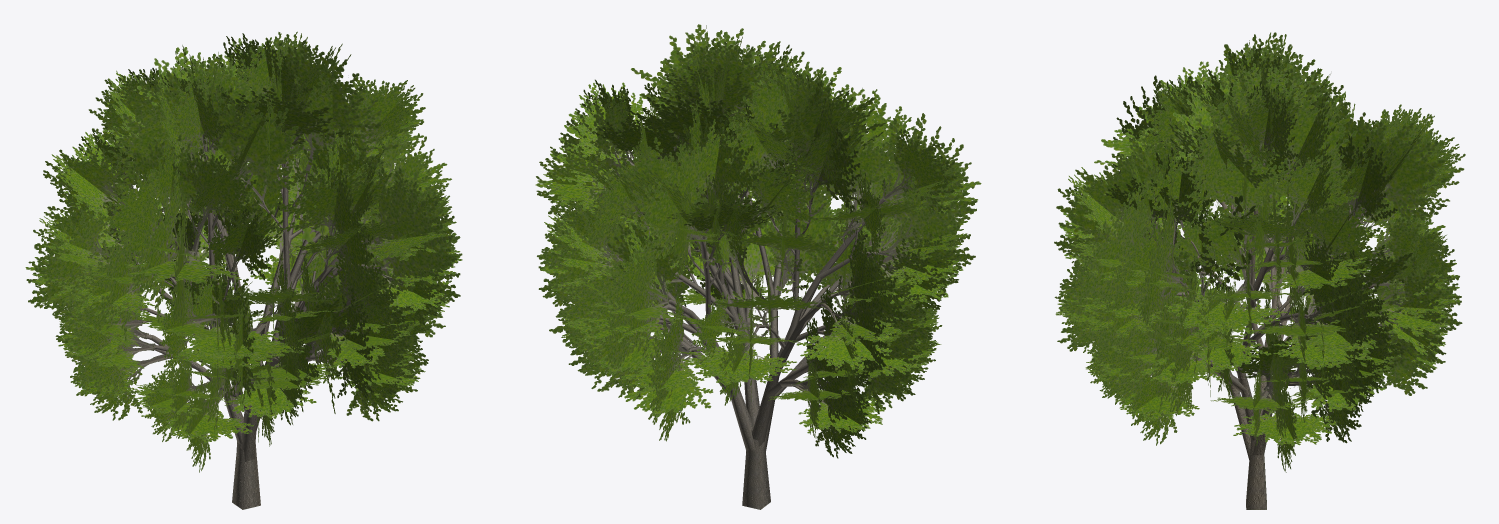
Rendered from UlmusMinor.glb.
The picture shows the model from 3 angles, left to right: view 1: azimuth 30°, elevation 25°; view 2: azimuth 150°, elevation 25°; view 3: azimuth 270°, elevation 25°; orthographic projection.
Parts seen in each view (by area): view 1: Field_Elm__Realistic_LOD3; view 2: Field_Elm__Realistic_LOD3; view 3: Field_Elm__Realistic_LOD3.
Part boxes in pixels (bbox=[...]): Field_Elm__Realistic_LOD3: bbox=[25, 31, 462, 509]; Field_Elm__Realistic_LOD3: bbox=[535, 24, 981, 509]; Field_Elm__Realistic_LOD3: bbox=[1054, 32, 1465, 509].
Bounding box in the file's own units: 22.24 × 24.68 × 22.07.
Materials: 1 (1 with a texture image).
